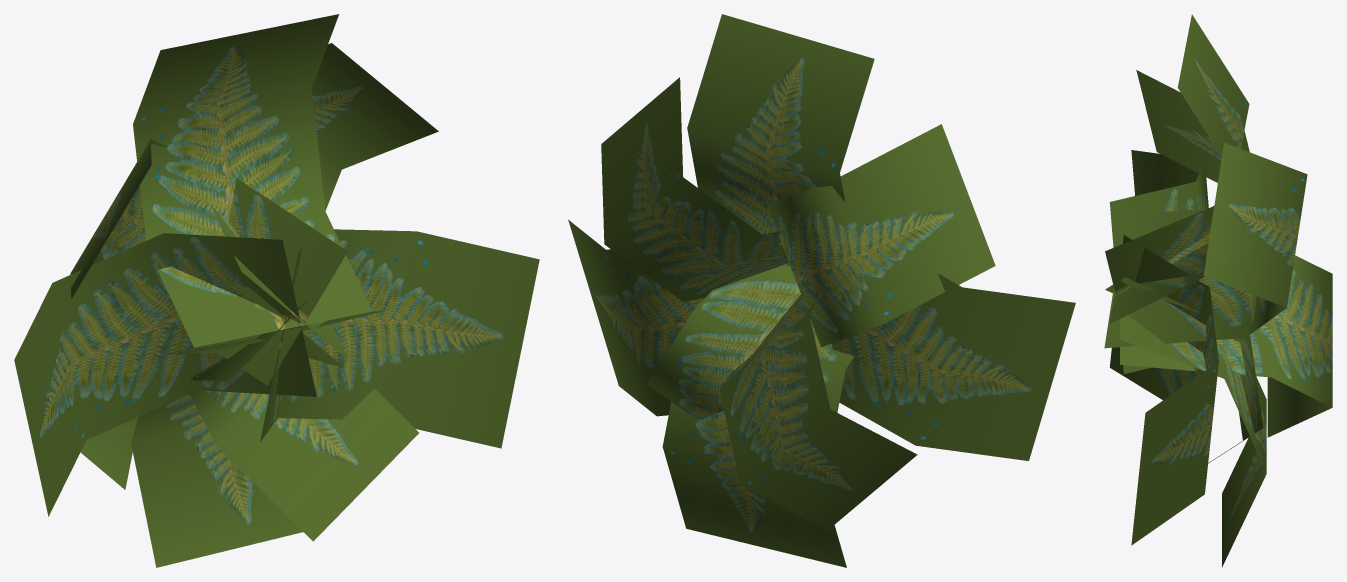
The model's file is fern.FBX.
3 views of the same model, side by side, from view 1: azimuth 30°, elevation 25°; view 2: azimuth 150°, elevation 25°; view 3: azimuth 270°, elevation 25° (orthographic). The views are drawn at different scales.
Parts seen in each view (by area): view 1: Fern_01; view 2: Fern_01; view 3: Fern_01.
Part boxes in pixels (bbox=[...]): Fern_01: bbox=[14, 14, 539, 567]; Fern_01: bbox=[568, 14, 1075, 567]; Fern_01: bbox=[1104, 14, 1332, 567].
Size of the model in its own units: 138 by 57.33 by 132.
